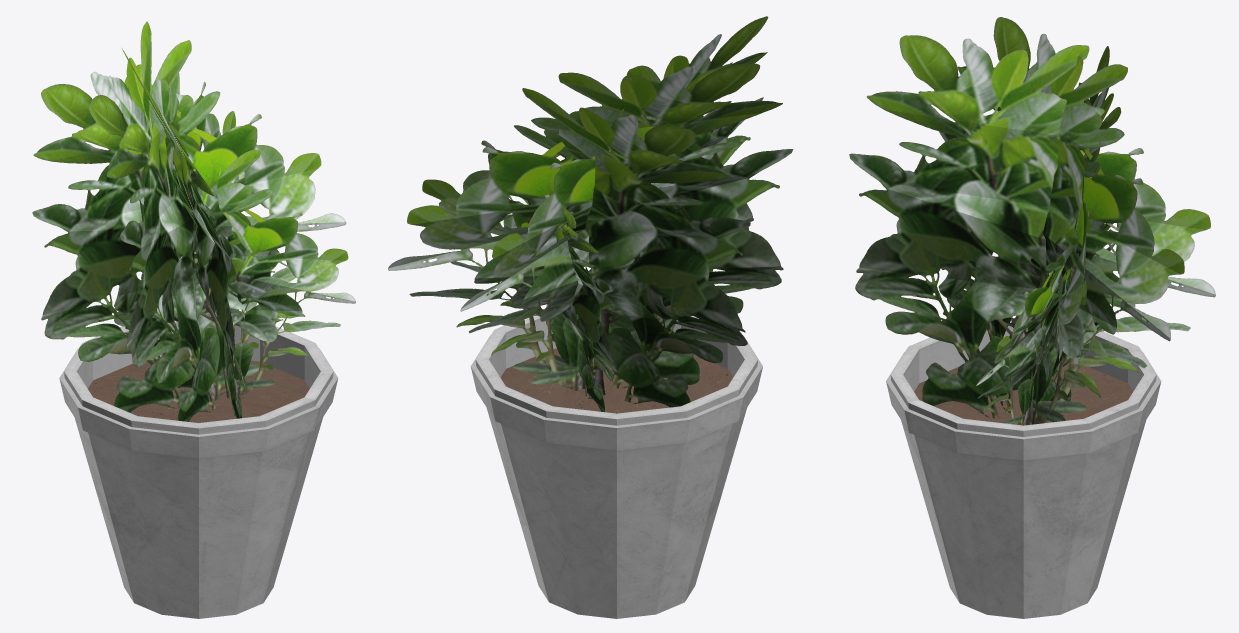
The model's file is Pot Eden export.fbx.
3 renders of one model, left to right at view 1: azimuth 30°, elevation 25°; view 2: azimuth 150°, elevation 25°; view 3: azimuth 270°, elevation 25°, orthographic. The views are drawn at different scales.
Parts seen in each view (by area): view 1: pCylinder1, clipboard_20260521_115933, clipboard_20260521_115933.002, clipboard_20260521_115933.003, clipboard_20260521_115933.001; view 2: pCylinder1, clipboard_20260521_115933, clipboard_20260521_115933.002, clipboard_20260521_115933.001, clipboard_20260521_115933.003; view 3: clipboard_20260521_115933.001, pCylinder1, clipboard_20260521_115933.002, clipboard_20260521_115933.003, clipboard_20260521_115933.
Part boxes in pixels (box(x1,y1,x2,y2)): pCylinder1: box(59, 320, 338, 618); clipboard_20260521_115933: box(32, 40, 346, 412); clipboard_20260521_115933.002: box(89, 21, 254, 421); clipboard_20260521_115933.003: box(114, 150, 355, 396); clipboard_20260521_115933.001: box(122, 48, 246, 418); pCylinder1: box(470, 308, 762, 618); clipboard_20260521_115933: box(422, 88, 750, 407); clipboard_20260521_115933.002: box(388, 63, 793, 389); clipboard_20260521_115933.001: box(460, 16, 768, 391); clipboard_20260521_115933.003: box(499, 194, 617, 412); clipboard_20260521_115933.001: box(849, 35, 1215, 419); pCylinder1: box(886, 320, 1161, 618); clipboard_20260521_115933.002: box(939, 17, 1184, 424); clipboard_20260521_115933.003: box(976, 219, 1114, 425); clipboard_20260521_115933: box(1026, 46, 1121, 418).
Size of the model in its own units: 135 by 209 by 140.
5 materials, 5 textured.
